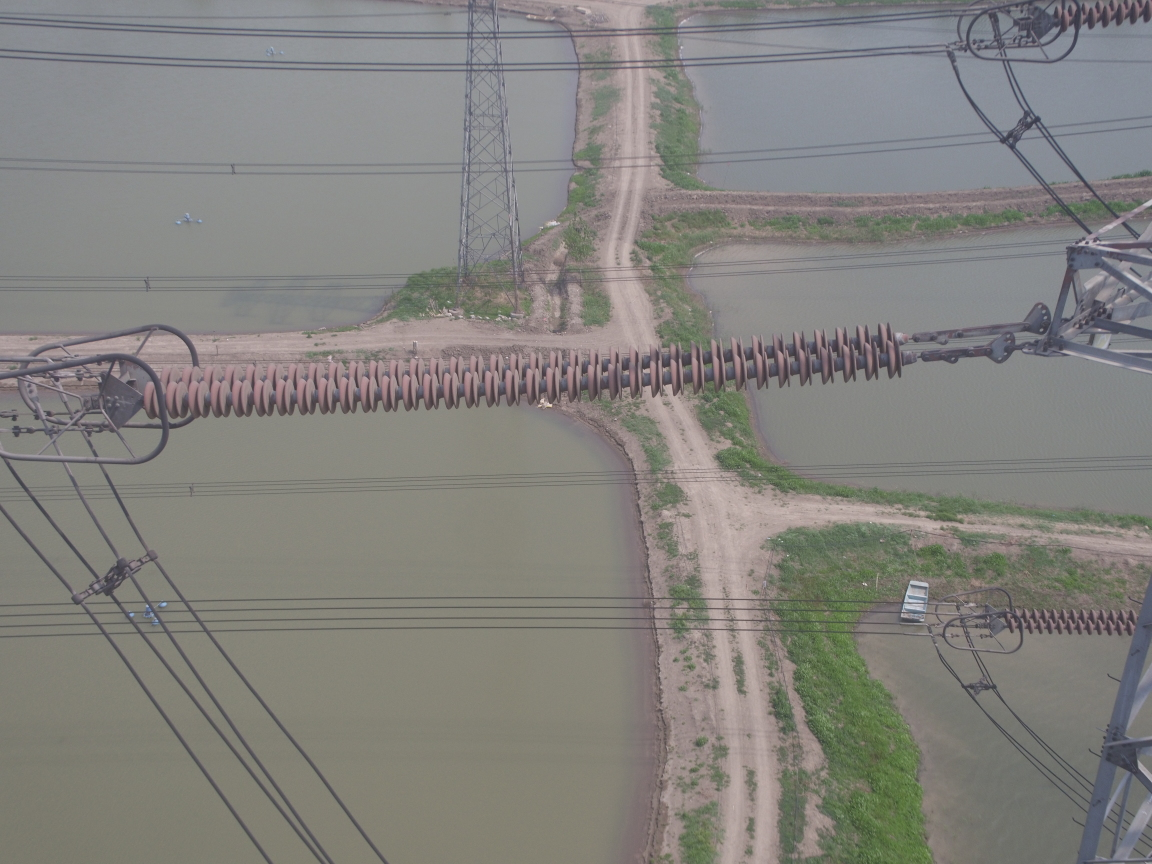insulator: (125, 313, 959, 421)
